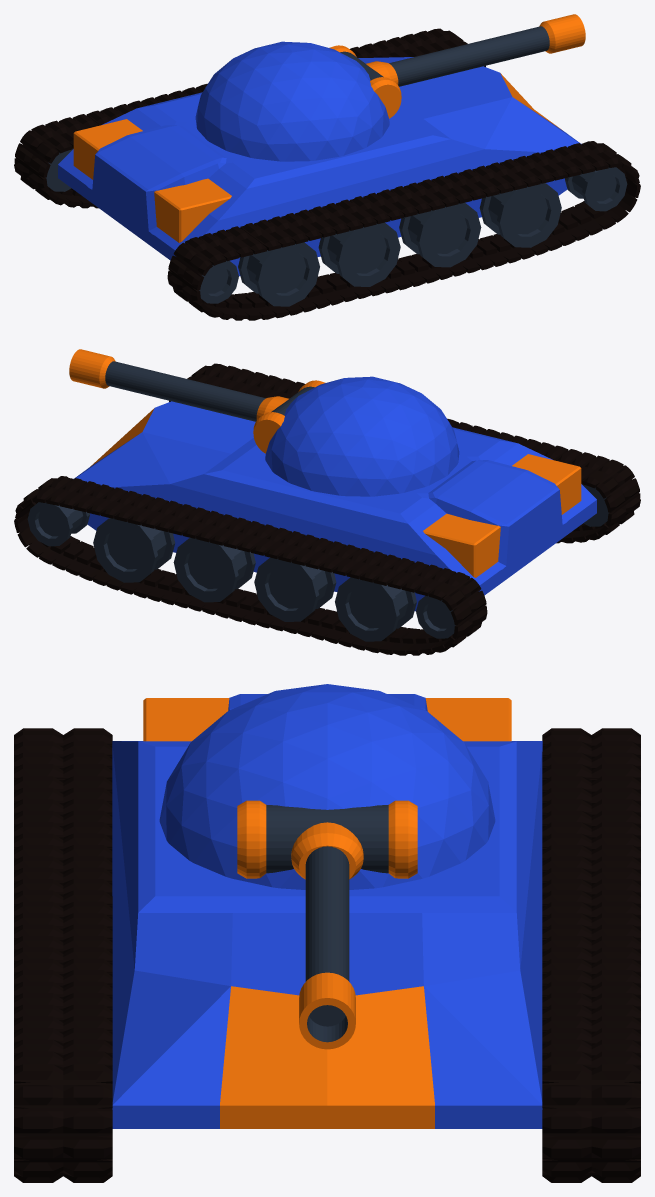
The model's file is Tank Model.fbx.
3 renders of one model, top to bottom at view 1: azimuth 30°, elevation 25°; view 2: azimuth 150°, elevation 25°; view 3: azimuth 270°, elevation 25°, orthographic. The views are drawn at different scales.
Parts seen in each view (by area): view 1: Tank Body, Turret; view 2: Tank Body, Turret; view 3: Tank Body, Turret.
Part boxes in pixels (<box>): Tank Body: <box>14,28,640,320</box>; Turret: <box>195,14,585,161</box>; Tank Body: <box>14,363,640,655</box>; Turret: <box>69,349,459,496</box>; Tank Body: <box>14,694,640,1182</box>; Turret: <box>159,684,495,1049</box>.
Size of the model in its own units: 1338 by 479 by 889.
